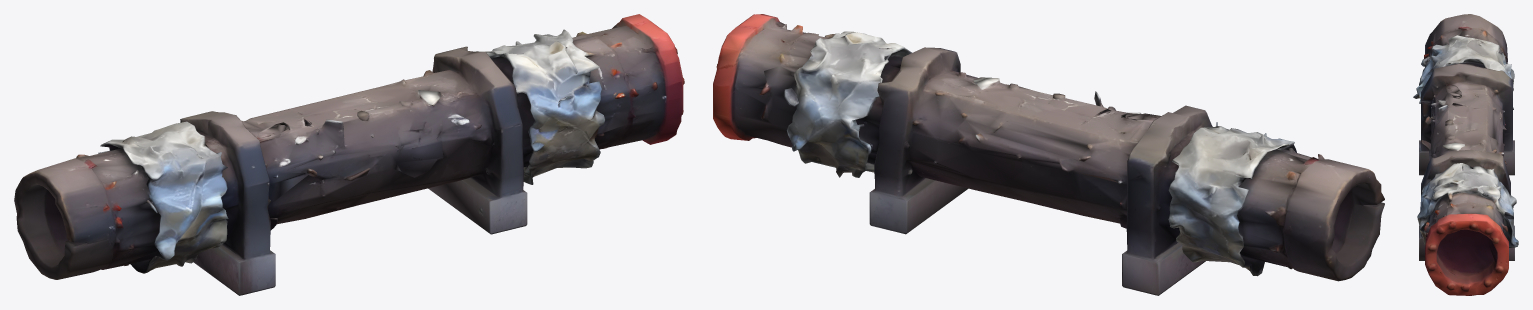
Rendered from heating_pipe.glb.
The picture shows the model from 3 angles, left to right: view 1: azimuth 30°, elevation 25°; view 2: azimuth 150°, elevation 25°; view 3: azimuth 270°, elevation 25°; orthographic projection. The views are drawn at different scales.
Parts seen in each view (by area): view 1: tripo_node_b1d3b3ca-425e-429c-a2a7-c355dda4fdf0; view 2: tripo_node_b1d3b3ca-425e-429c-a2a7-c355dda4fdf0; view 3: tripo_node_b1d3b3ca-425e-429c-a2a7-c355dda4fdf0.
Boxes of the visible parts, <box> form: tripo_node_b1d3b3ca-425e-429c-a2a7-c355dda4fdf0: <box>14,14,684,295</box>; tripo_node_b1d3b3ca-425e-429c-a2a7-c355dda4fdf0: <box>713,14,1384,295</box>; tripo_node_b1d3b3ca-425e-429c-a2a7-c355dda4fdf0: <box>1413,14,1518,295</box>.
Bounding box in the file's own units: 2.64 × 0.6 × 0.5586.
1 material, 1 textured.
